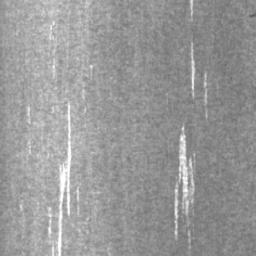White rust: (55, 105, 72, 256), (173, 128, 196, 238), (189, 46, 196, 93), (202, 73, 208, 105), (76, 187, 81, 213), (188, 0, 194, 20), (26, 106, 32, 123), (47, 215, 52, 235)
